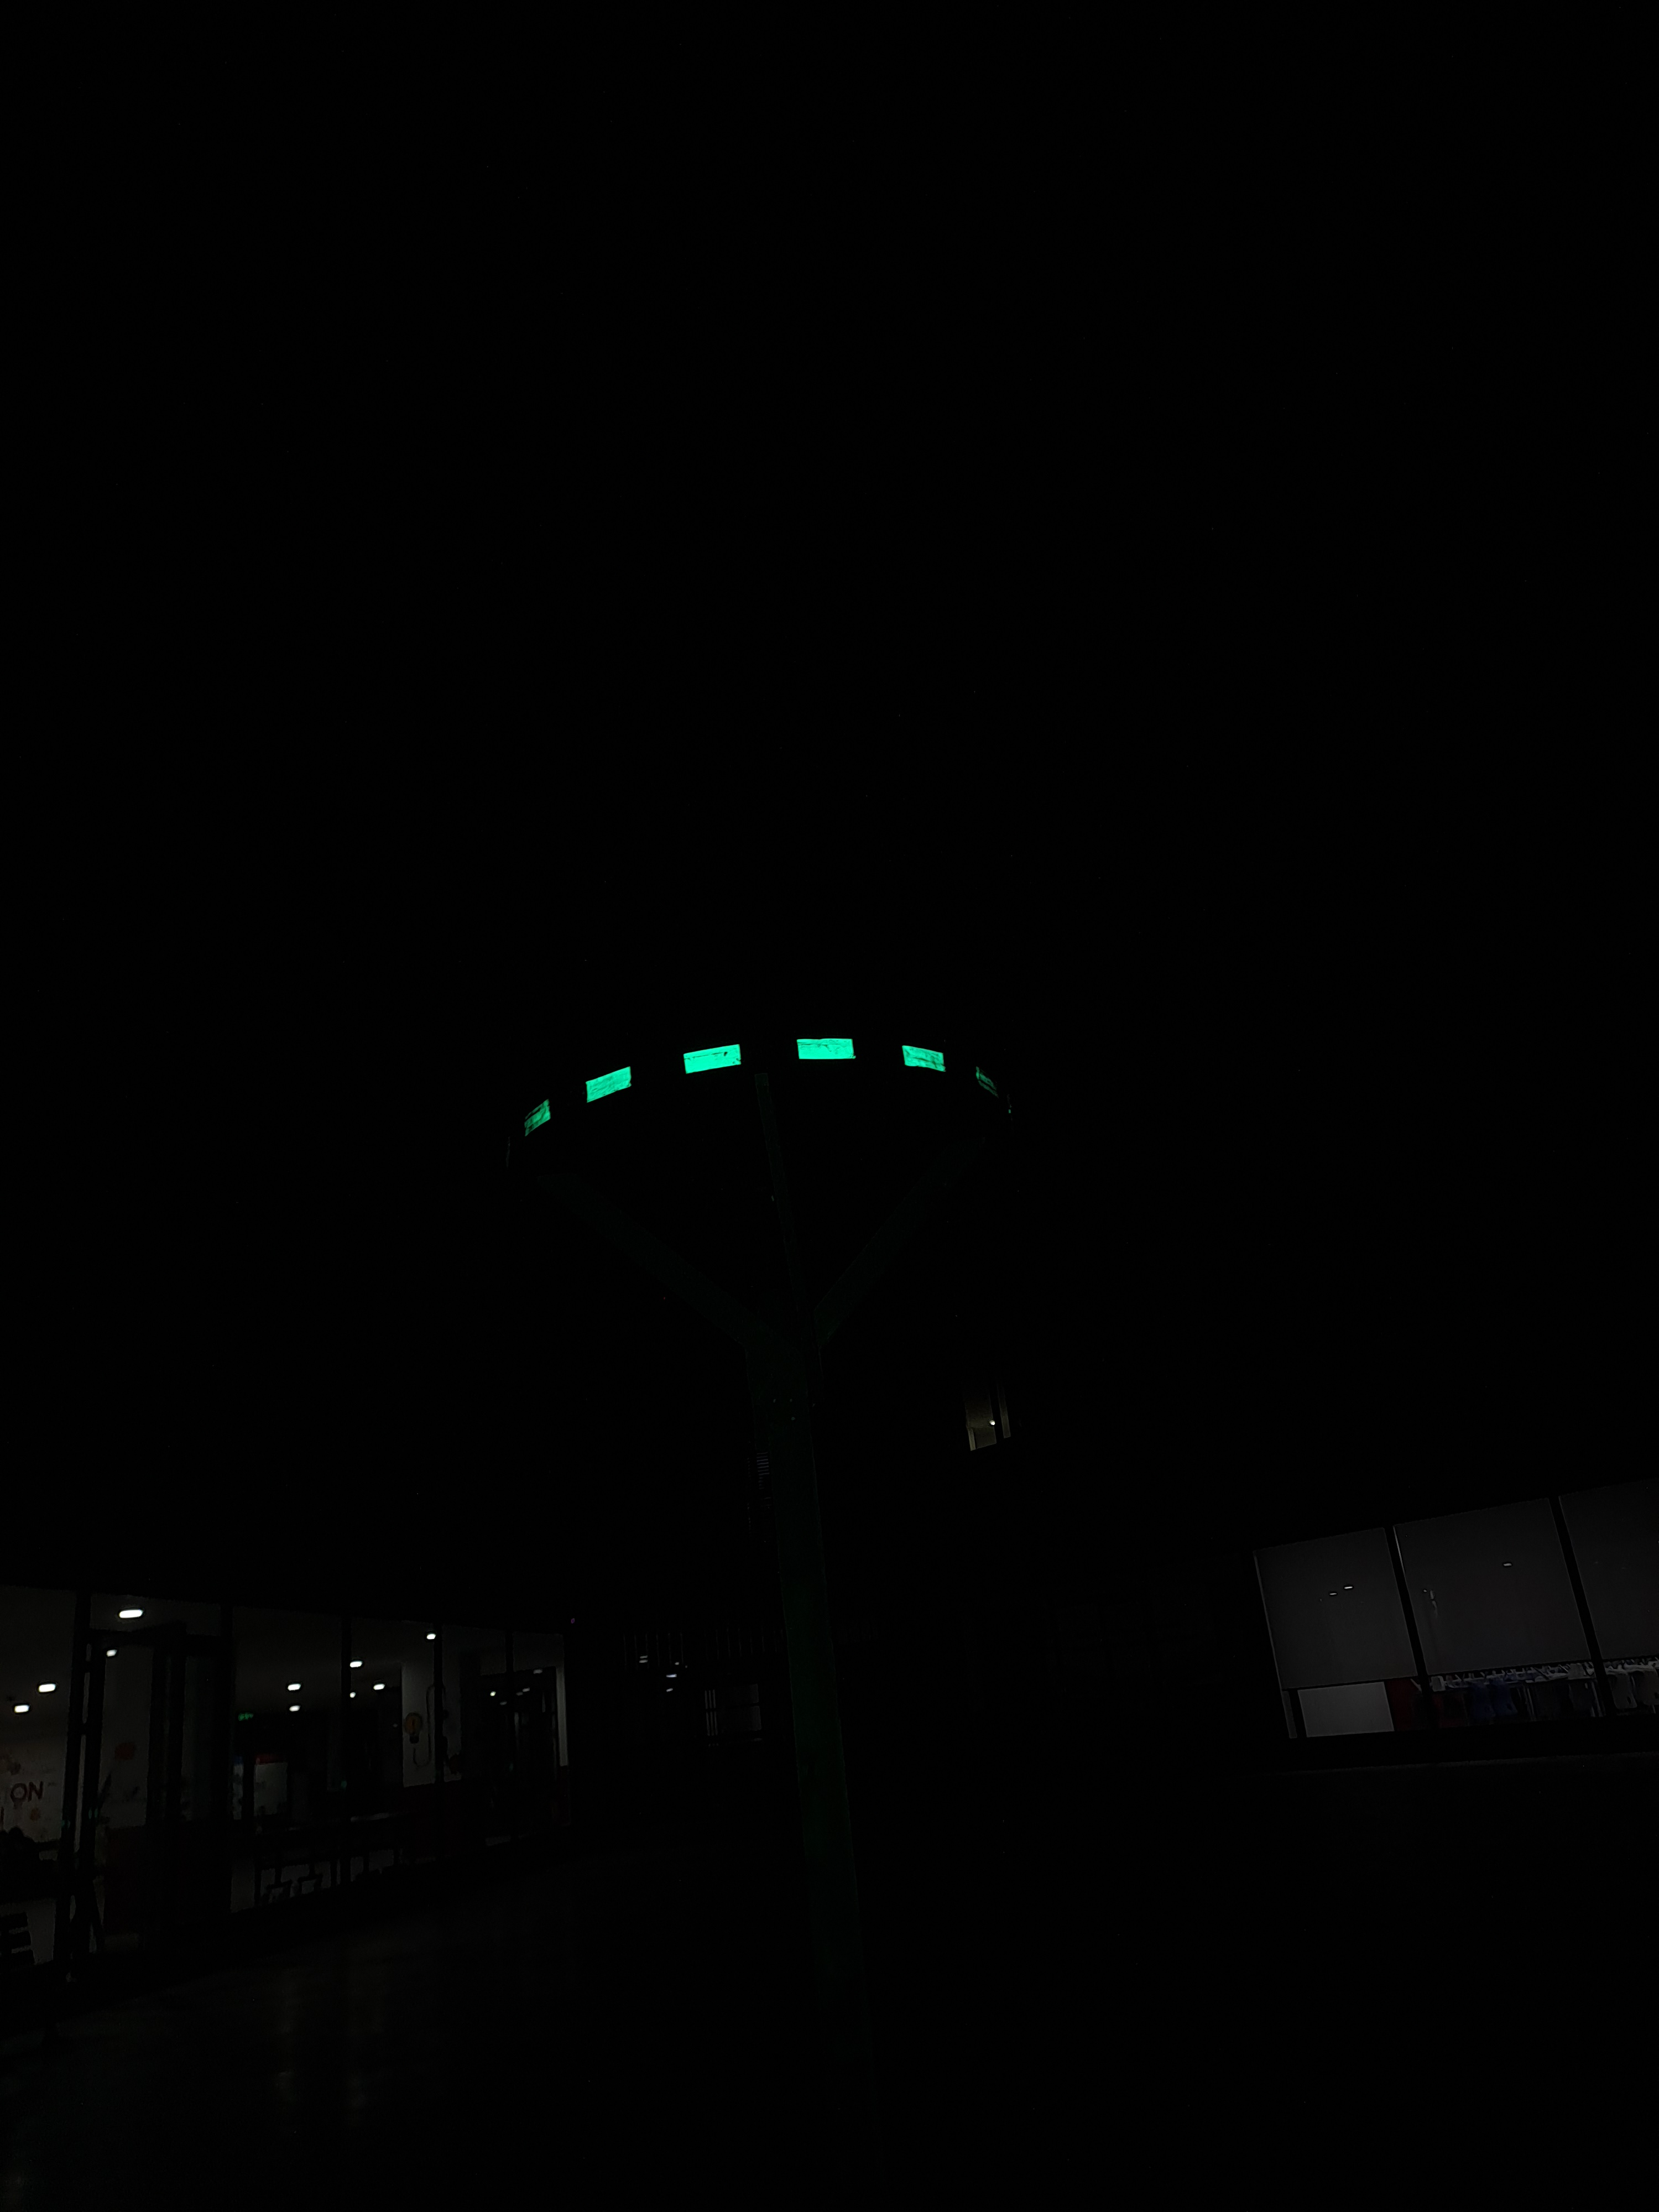hoop: (514, 1031, 951, 1141)
